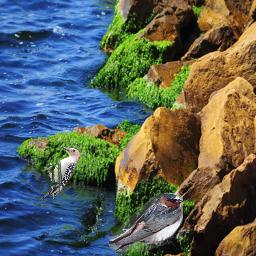Swallow: (109, 193, 183, 252)
Woodpecker: (39, 145, 81, 202)
